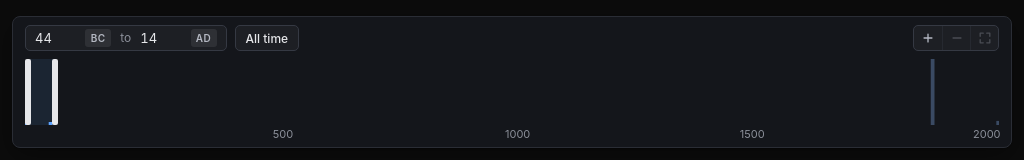
Scenario: TimeBar typed years › mark 0 as invalid, apply nothing and revert on blur
The image size is (1024, 160).
Replace the text in the number field named "From year" with "0" at (60,38), box top-left (35, 26), bottom-right (85, 50)
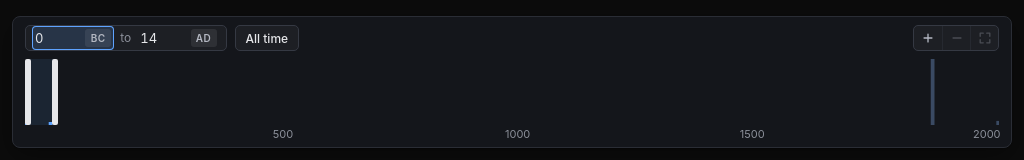
Press Enter
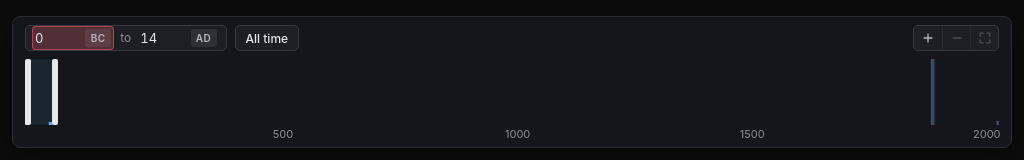
Expected: the number field named "From year" is marked as invalid, top-left (35, 26), bottom-right (85, 50)
Press Tab
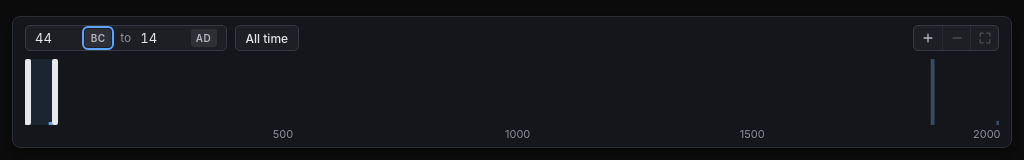
Expected: the number field named "From year" holds "44", top-left (35, 26), bottom-right (85, 50)
